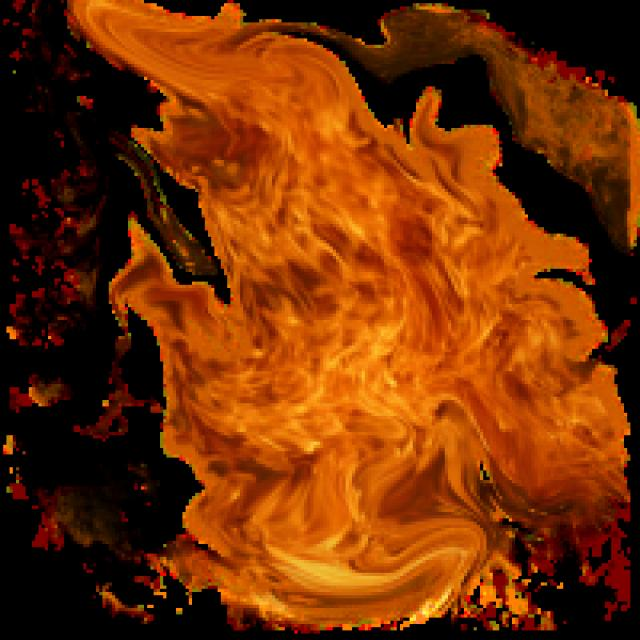fire: (4, 0, 629, 568)
